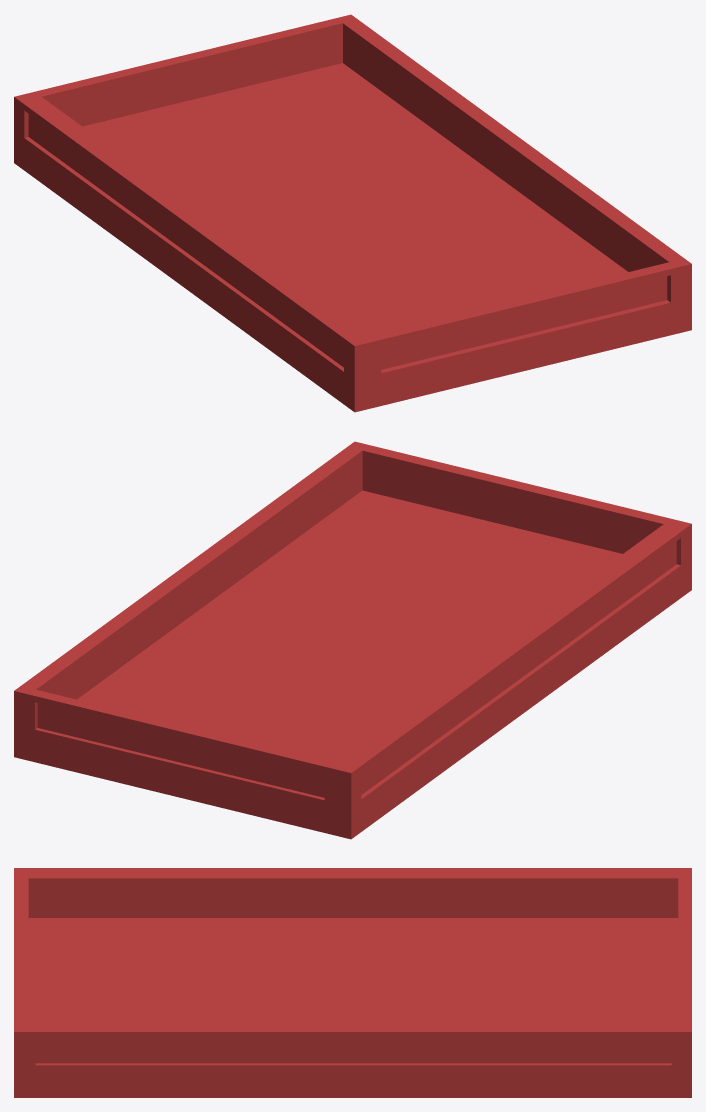
The model's file is BunTray.fbx.
The picture shows the model from 3 angles, top to bottom: view 1: azimuth 30°, elevation 25°; view 2: azimuth 150°, elevation 25°; view 3: azimuth 270°, elevation 25°; orthographic projection.
Visible parts, largest first — view 1: pCube2; view 2: pCube2; view 3: pCube2.
Boxes of the visible parts, x1=… form: pCube2: x1=14, y1=14, x2=691, y2=412; pCube2: x1=14, y1=441, x2=691, y2=839; pCube2: x1=14, y1=868, x2=691, y2=1097.
Bounding box in the file's own units: 40 × 7.51 × 70.
